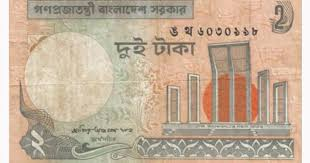2_taka: (19, 1, 295, 160)
